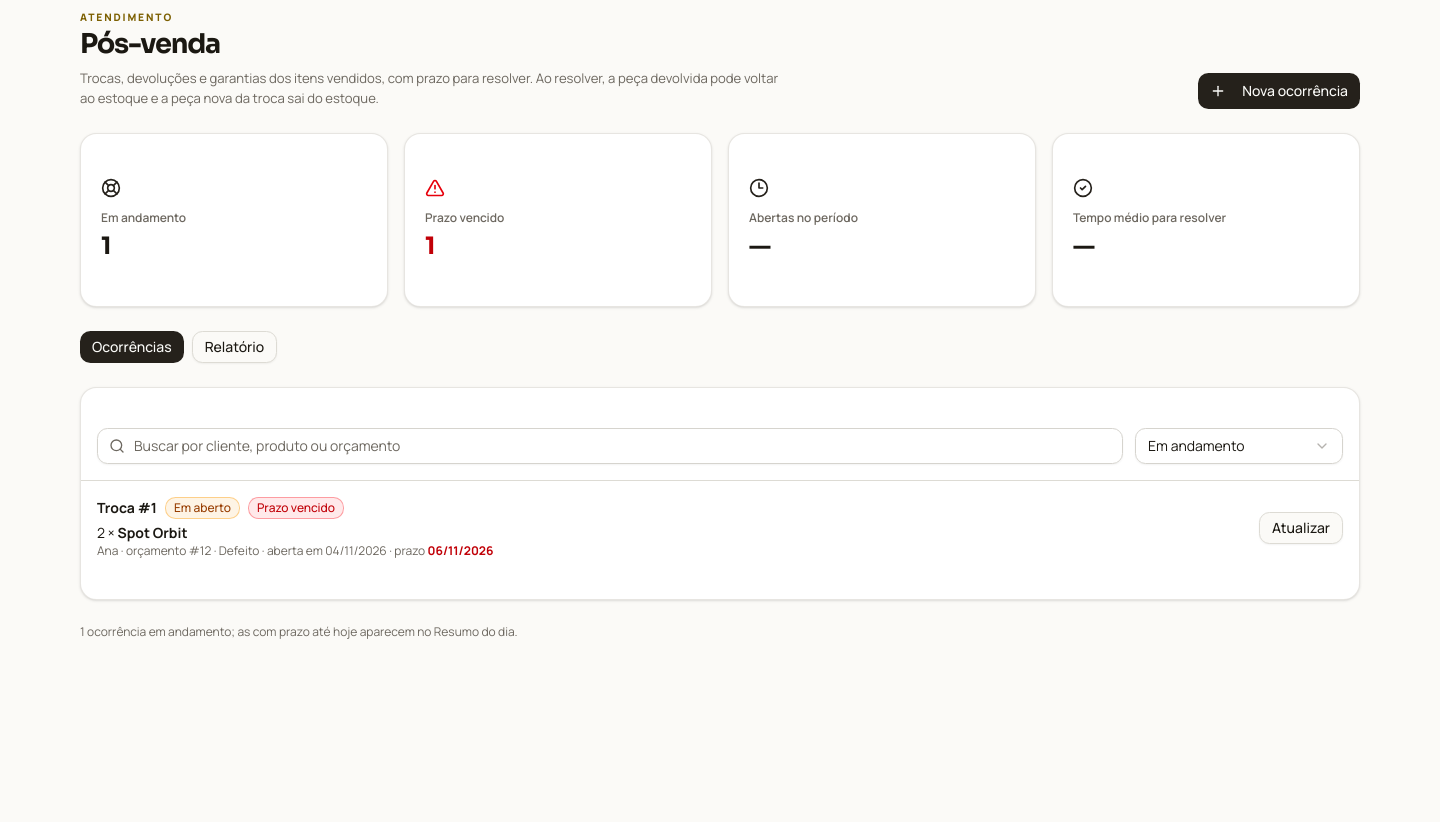
Test: AfterSalesPage › lista as ocorrências em andamento e destaca o prazo vencido
Expected: the text "Troca #1" is shown, [97,498,157,518]
Expected: the text "Prazo vencido" next to "Em aberto" is shown, [257,499,335,516]
Step 1. Type "fita" into the field with placeholder "Buscar por cliente, produto ou orçamento" → coordinates (610, 446), box [97,428,1123,464]
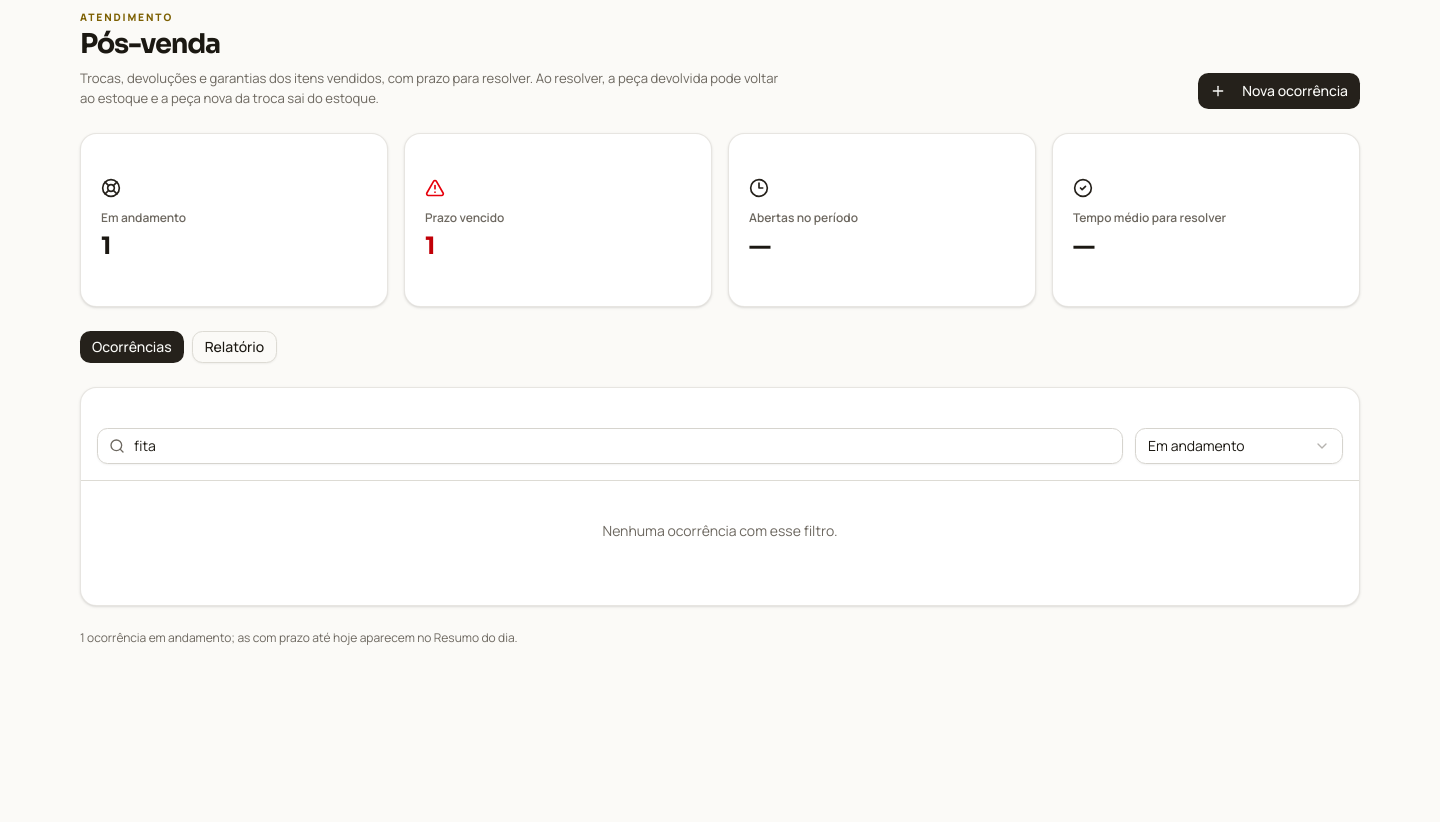
Now the text "Troca #1" is gone
